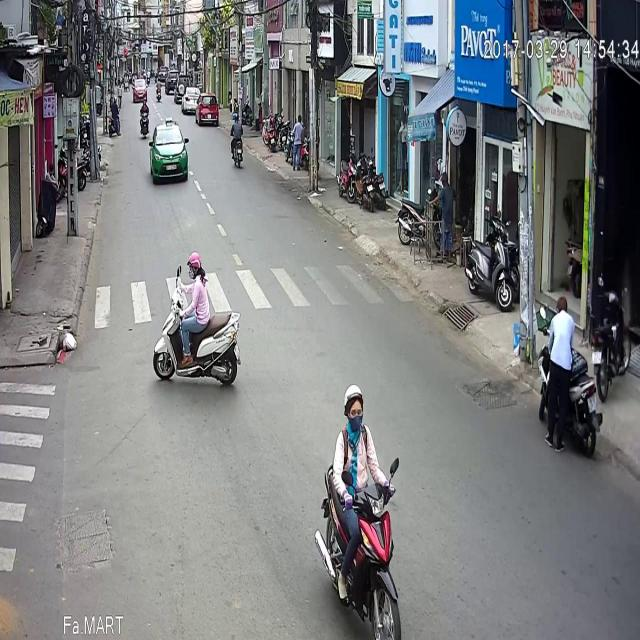car: (147, 59, 189, 124), (194, 34, 218, 68)
motorcycle: (314, 325, 400, 609), (152, 192, 241, 328), (230, 54, 243, 110), (108, 38, 120, 79), (139, 40, 149, 80)
